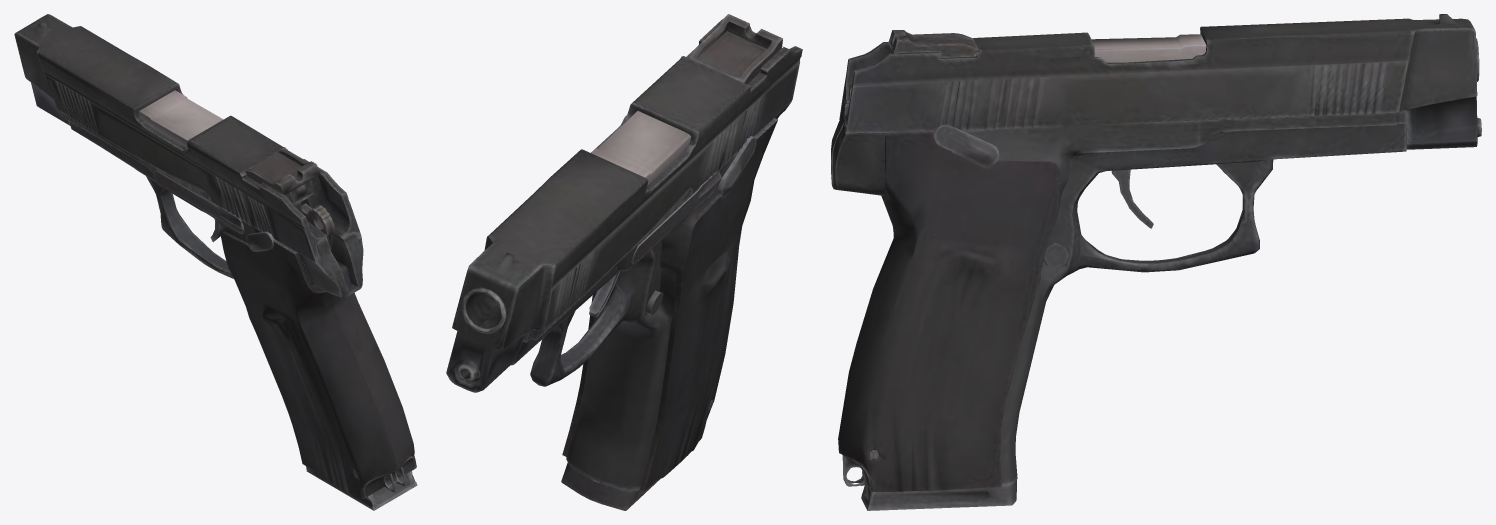
The picture shows the model from 3 angles, left to right: view 1: azimuth 30°, elevation 25°; view 2: azimuth 150°, elevation 25°; view 3: azimuth 270°, elevation 25°; orthographic projection. The views are drawn at different scales.
Visible parts, largest first — view 1: bolt, mag, body; view 2: bolt, mag, body; view 3: bolt, mag, body.
Boxes of the visible parts, x1=… form: bolt: x1=14, y1=14, x2=363, y2=297; mag: x1=221, y1=233, x2=417, y2=510; body: x1=69, y1=121, x2=402, y2=494; bolt: x1=446, y1=14, x2=802, y2=392; mag: x1=561, y1=120, x2=777, y2=510; body: x1=512, y1=101, x2=791, y2=491; bolt: x1=831, y1=14, x2=1481, y2=273; mag: x1=838, y1=131, x2=1078, y2=510; body: x1=832, y1=123, x2=1406, y2=481.
Bounding box in the file's own units: 0.073 × 0.1452 × 0.198.
Materials: 1 (1 with a texture image).
